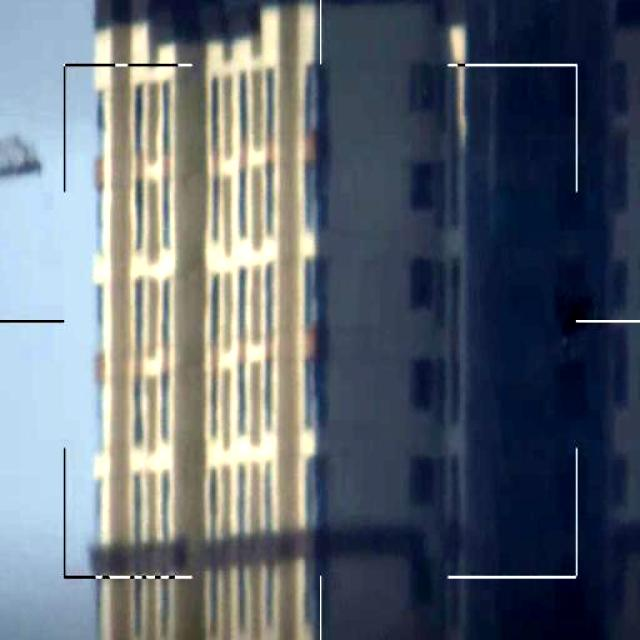bird: (548, 284, 596, 358)
